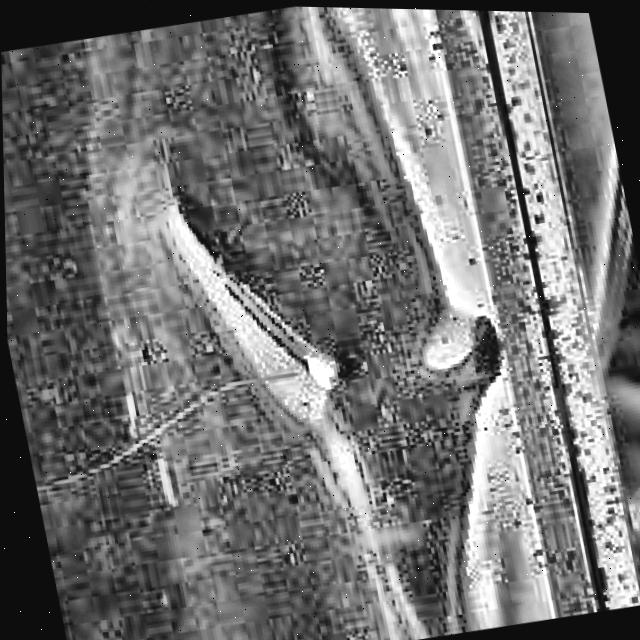door_dent: (133, 17, 528, 640)
